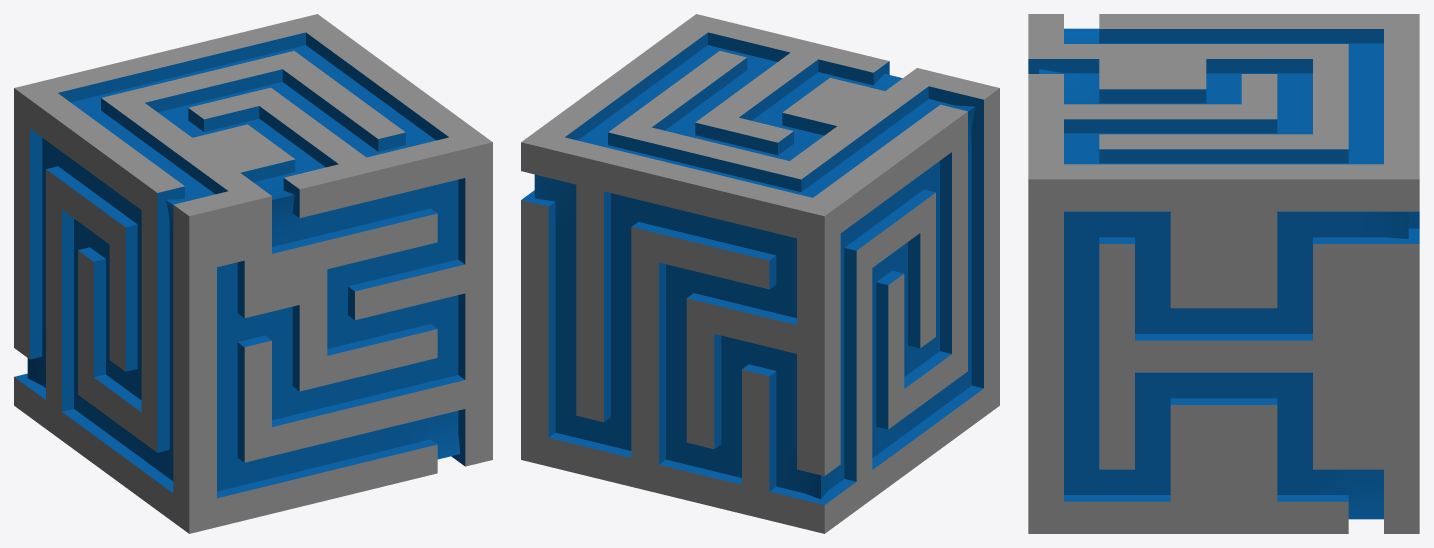
File: Bloc04_fige.FBX
3 renders of one model, left to right at view 1: azimuth 30°, elevation 25°; view 2: azimuth 150°, elevation 25°; view 3: azimuth 270°, elevation 25°, orthographic. The views are drawn at different scales.
Parts seen in each view (by area): view 1: Bloc_04_fige; view 2: Bloc_04_fige; view 3: Bloc_04_fige.
Boxes of the visible parts, box(x1,y1,x2,y2) form: Bloc_04_fige: box(14, 14, 492, 533); Bloc_04_fige: box(521, 14, 999, 533); Bloc_04_fige: box(1028, 14, 1419, 533).
Size of the model in its own units: 100 by 100 by 100.
